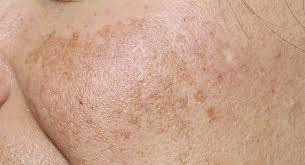Melasma: (26, 19, 215, 139)
